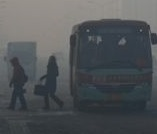person: (34, 55, 66, 112), (5, 54, 28, 110)
